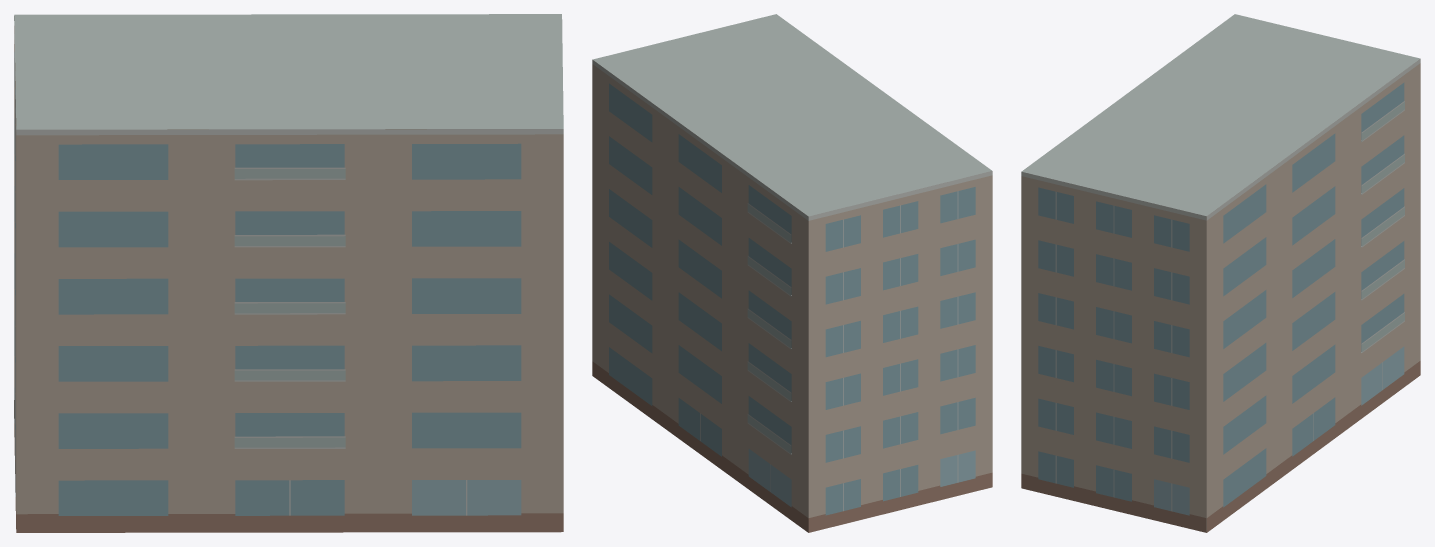
The model's file is survey-upis-32657220.glb.
3 renders of one model, left to right at view 1: azimuth 30°, elevation 25°; view 2: azimuth 150°, elevation 25°; view 3: azimuth 270°, elevation 25°, orthographic. The views are drawn at different scales.
Visible parts, largest first — view 1: survey-upis-32657220.tmp; view 2: survey-upis-32657220.tmp; view 3: survey-upis-32657220.tmp.
Part boxes in pixels (x1=…): survey-upis-32657220.tmp: x1=14, y1=14, x2=563, y2=532; survey-upis-32657220.tmp: x1=592, y1=14, x2=992, y2=532; survey-upis-32657220.tmp: x1=1021, y1=14, x2=1420, y2=532.
Size of the model in its own units: 24.12 by 17.6 by 20.12.
